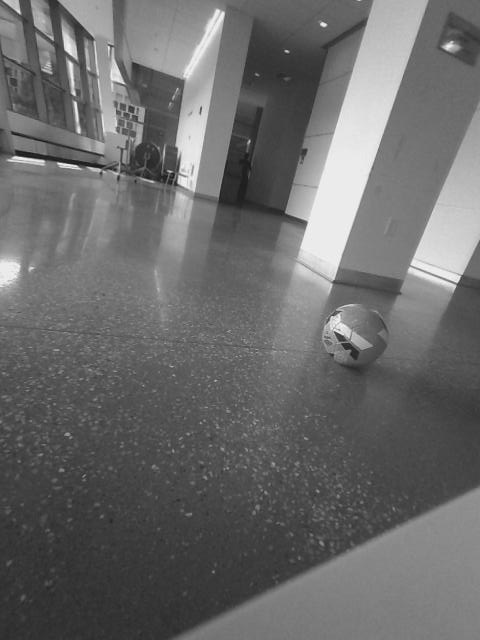ball: (320, 301, 392, 373)
